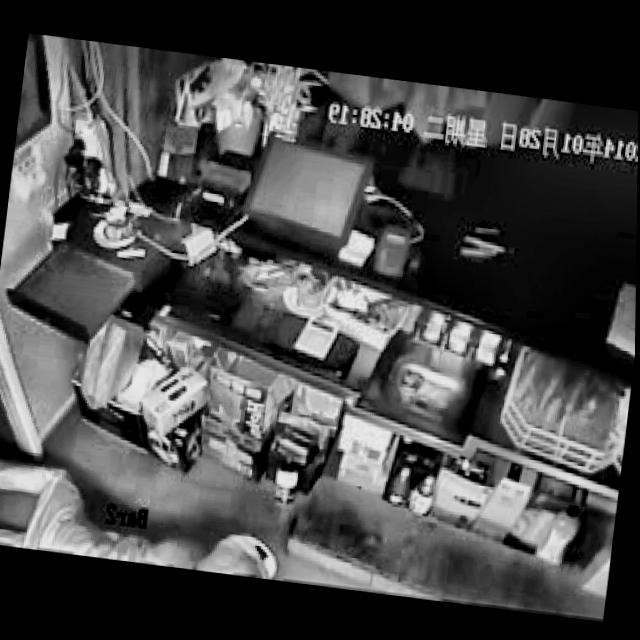burglary: (0, 450, 302, 579)
